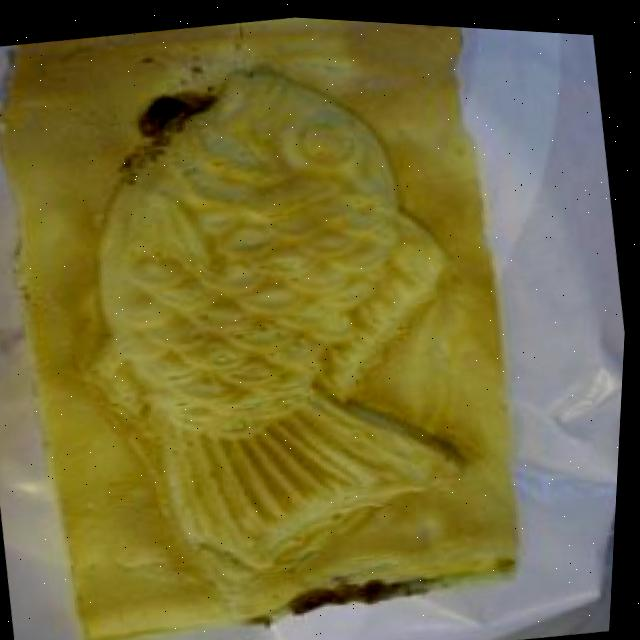熟制海鲜: (0, 1, 562, 640)
